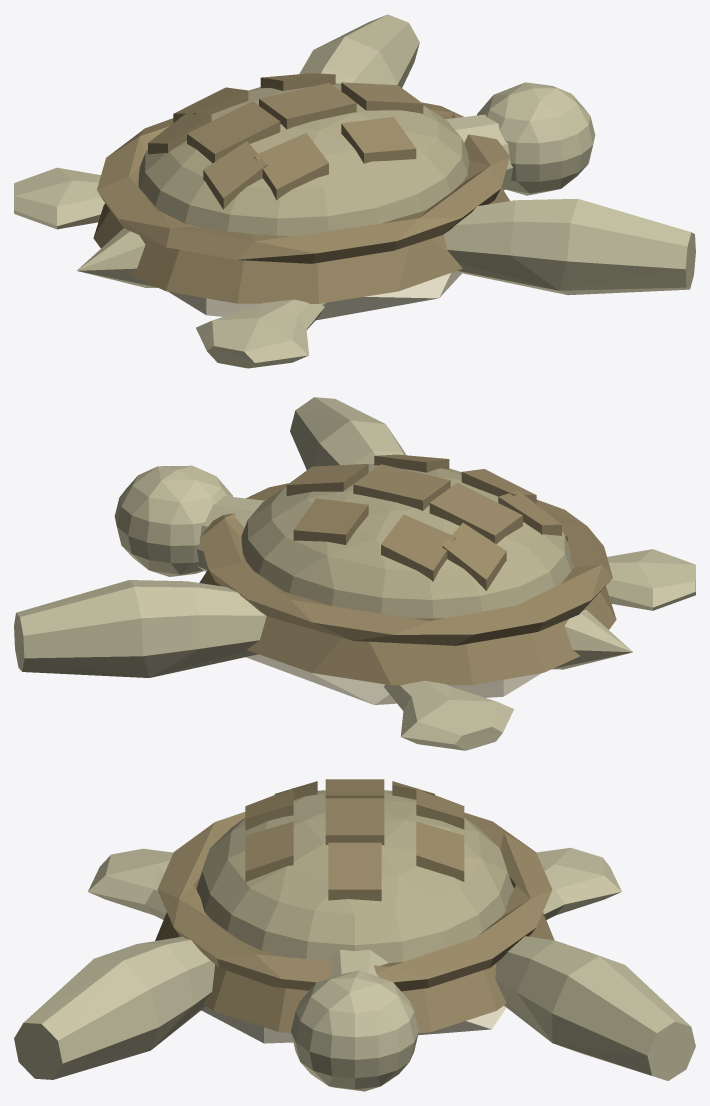
Rendered from 36-Fauna_tortuga_marina.glb.
The picture shows the model from 3 angles, top to bottom: view 1: azimuth 30°, elevation 25°; view 2: azimuth 150°, elevation 25°; view 3: azimuth 270°, elevation 25°; orthographic projection. The views are drawn at different scales.
Parts seen in each view (by area): view 1: SM_Tortuga_M_Tortuga_Escudos, SM_Tortuga_M_Tortuga_Piel, SM_Tortuga_M_Tortuga_Caparazon, SM_Tortuga_M_Tortuga_Plastron; view 2: SM_Tortuga_M_Tortuga_Escudos, SM_Tortuga_M_Tortuga_Piel, SM_Tortuga_M_Tortuga_Caparazon, SM_Tortuga_M_Tortuga_Plastron; view 3: SM_Tortuga_M_Tortuga_Piel, SM_Tortuga_M_Tortuga_Escudos, SM_Tortuga_M_Tortuga_Caparazon, SM_Tortuga_M_Tortuga_Plastron.
Boxes of the visible parts, left/top/right/bottom form: SM_Tortuga_M_Tortuga_Escudos: left=93, top=73, right=510, bottom=303; SM_Tortuga_M_Tortuga_Piel: left=14, top=14, right=695, bottom=368; SM_Tortuga_M_Tortuga_Caparazon: left=138, top=83, right=468, bottom=236; SM_Tortuga_M_Tortuga_Plastron: left=168, top=271, right=461, bottom=320; SM_Tortuga_M_Tortuga_Escudos: left=199, top=454, right=616, bottom=685; SM_Tortuga_M_Tortuga_Piel: left=14, top=397, right=695, bottom=750; SM_Tortuga_M_Tortuga_Caparazon: left=241, top=464, right=571, bottom=618; SM_Tortuga_M_Tortuga_Plastron: left=245, top=654, right=541, bottom=704; SM_Tortuga_M_Tortuga_Piel: left=14, top=847, right=695, bottom=1091; SM_Tortuga_M_Tortuga_Escudos: left=155, top=779, right=554, bottom=1033; SM_Tortuga_M_Tortuga_Caparazon: left=196, top=790, right=513, bottom=962; SM_Tortuga_M_Tortuga_Plastron: left=201, top=1006, right=506, bottom=1043.
Size of the model in its own units: 1.17 by 0.3283 by 1.28.
